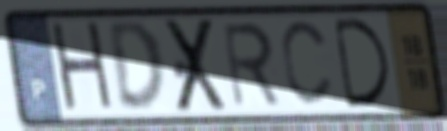C: (278, 17, 336, 111)
D: (104, 17, 168, 116), (330, 16, 394, 112)
H: (47, 17, 119, 118)
R: (219, 19, 284, 112)
X: (162, 15, 232, 117)
